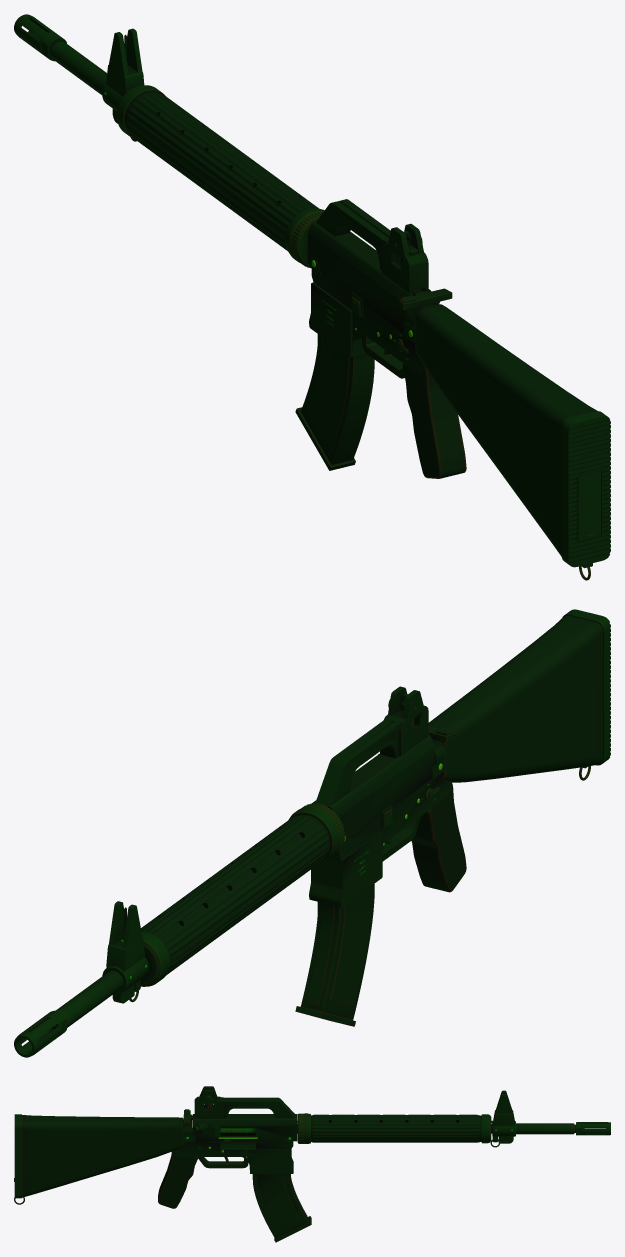
The picture shows the model from 3 angles, top to bottom: view 1: azimuth 30°, elevation 25°; view 2: azimuth 150°, elevation 25°; view 3: azimuth 270°, elevation 25°; orthographic projection. The views are drawn at different scales.
Parts seen in each view (by area): view 1: m16_stock, m16_handguard, m16_upper, m16_buttplate, m16_magBody, m16_lower, m16_grip, m16_fsb, m16_barrel, m16_deltaRing, m16_flashHider; view 2: m16_stock, m16_handguard, m16_upper, m16_magBody, m16_lower, m16_grip, m16_fsb, m16_barrel, m16_buttplate, m16_flashHider, m16_handguardCap, m16_deltaRing (+1 smaller); view 3: m16_stock, m16_handguard, m16_upper, m16_magBody, m16_lower, m16_grip, m16_fsb, m16_barrel, m16_buttplate, m16_flashHider, m16_deltaRing, m16_dustCover (+3 smaller).
Part boxes in pixels (x1,y1,x2,y2): m16_stock: (415,304,597,556); m16_handguard: (124,91,318,250); m16_upper: (307,199,431,332); m16_buttplate: (561,411,610,567); m16_magBody: (295,334,374,470); m16_lower: (309,257,435,375); m16_grip: (402,363,466,478); m16_fsb: (102,28,144,123); m16_barrel: (50,41,107,94); m16_deltaRing: (285,208,324,268); m16_flashHider: (14,14,66,61); m16_stock: (428,615,603,782); m16_handguard: (141,814,330,974); m16_upper: (312,686,434,838); m16_magBody: (295,884,374,1026); m16_lower: (309,739,451,907); m16_grip: (411,781,466,892); m16_fsb: (102,901,148,1003); m16_barrel: (52,970,123,1029); m16_buttplate: (562,609,610,765); m16_flashHider: (14,1010,66,1057); m16_handguardCap: (141,931,170,986); m16_deltaRing: (288,803,344,862); m16_stock: (22,1115,183,1197); m16_handguard: (311,1114,481,1142); m16_upper: (193,1086,297,1141); m16_magBody: (252,1174,311,1242); m16_lower: (175,1119,293,1173); m16_grip: (158,1150,198,1208); m16_fsb: (492,1090,515,1143); m16_barrel: (297,1123,575,1134); m16_buttplate: (14,1114,21,1198); m16_flashHider: (576,1122,610,1135); m16_deltaRing: (297,1113,310,1143); m16_dustCover: (220,1139,255,1149).
Bounding box in the file's own units: 0.052 × 0.2805 × 1.01.
